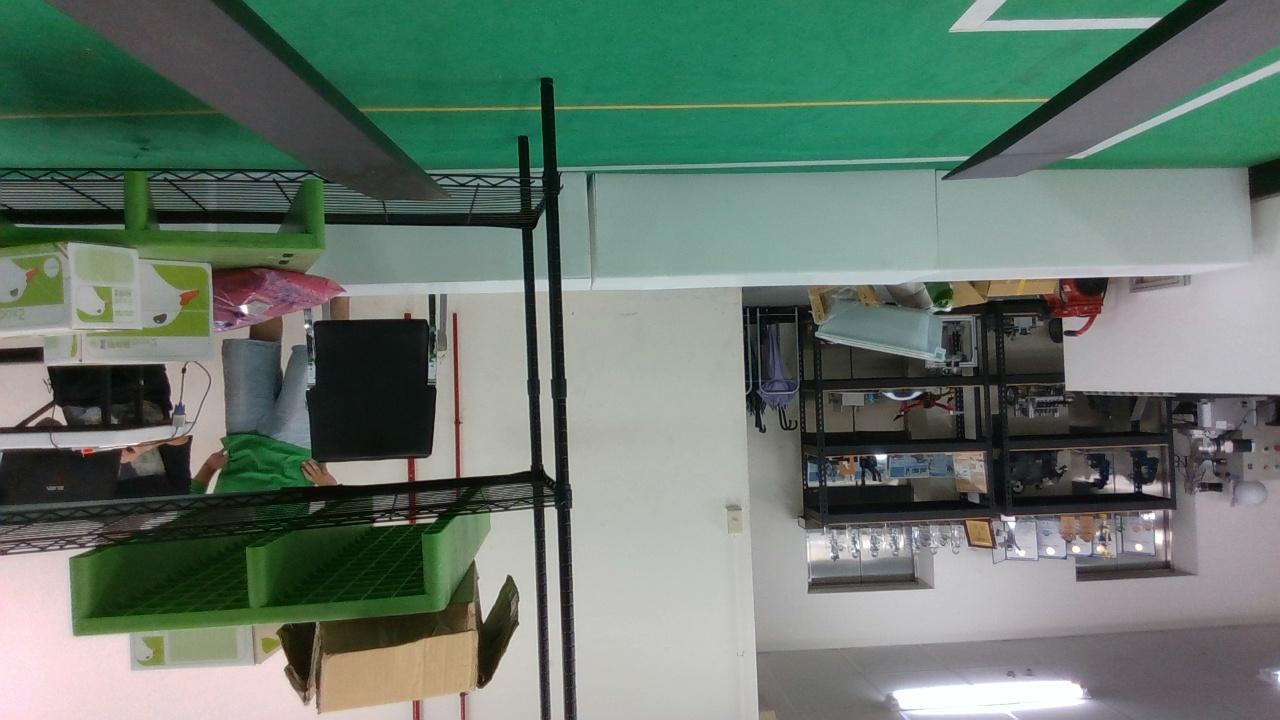Pallet: (65, 526, 450, 649)
